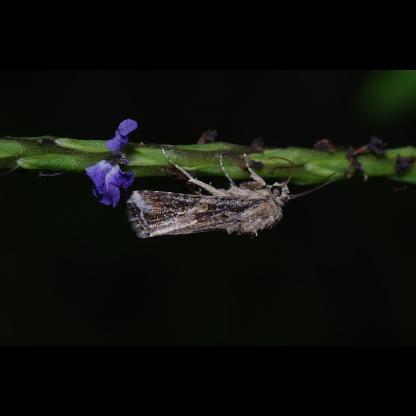Fall Armyworm Moth: (122, 145, 348, 243)
